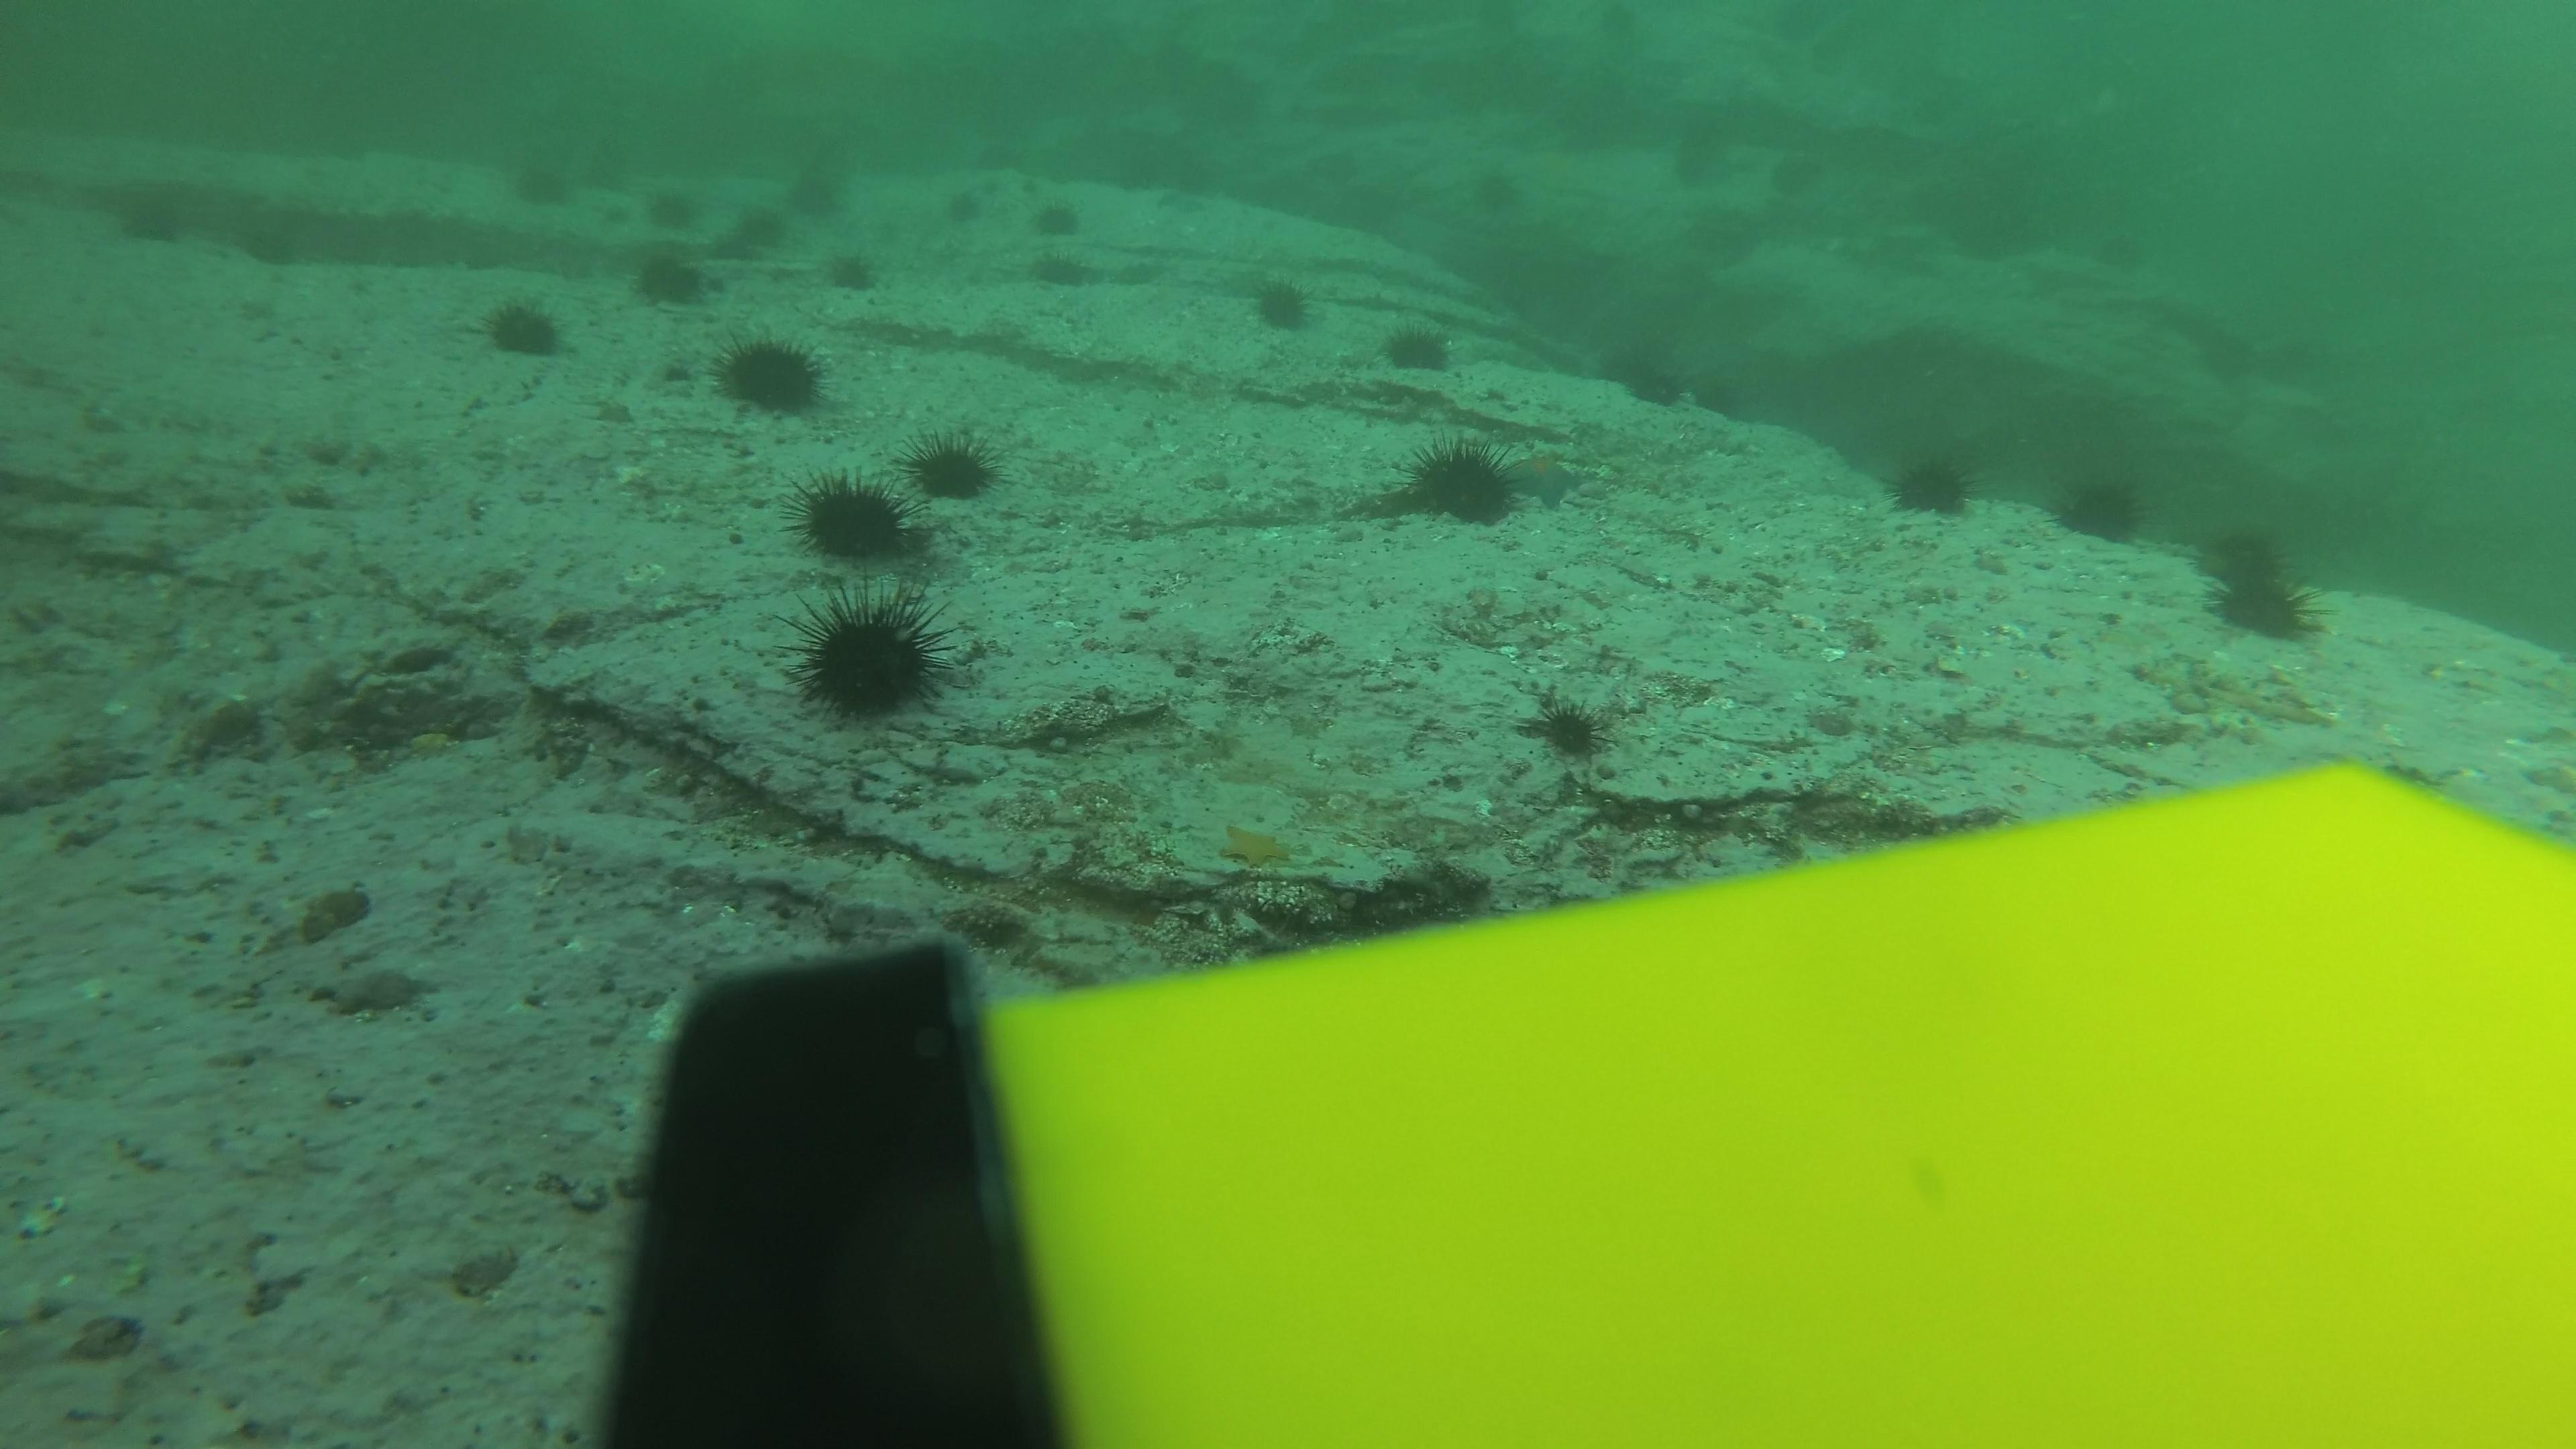echinus: (787, 587, 955, 727), (789, 469, 927, 571), (1389, 435, 1529, 536), (711, 327, 832, 423), (2049, 465, 2151, 550), (1518, 686, 1621, 771), (904, 425, 1005, 508), (1882, 444, 1983, 525), (2208, 582, 2327, 648), (2190, 527, 2309, 591), (472, 290, 571, 366), (1240, 269, 1322, 340), (1376, 313, 1460, 380), (626, 253, 715, 313), (1583, 345, 1652, 391), (640, 184, 706, 230), (782, 165, 846, 211), (839, 253, 902, 299), (731, 205, 794, 251), (931, 180, 994, 226), (1467, 163, 1530, 209), (1767, 152, 1831, 198), (1660, 143, 1723, 189), (1760, 0, 1824, 46), (1583, 0, 1647, 46), (1622, 363, 1686, 409), (1684, 372, 1748, 418), (499, 165, 563, 209), (1030, 200, 1093, 244), (1037, 249, 1100, 294), (2118, 234, 2181, 278), (720, 232, 759, 264)
starfish: (1493, 446, 1591, 515), (1217, 816, 1297, 876), (1150, 184, 1212, 219)
